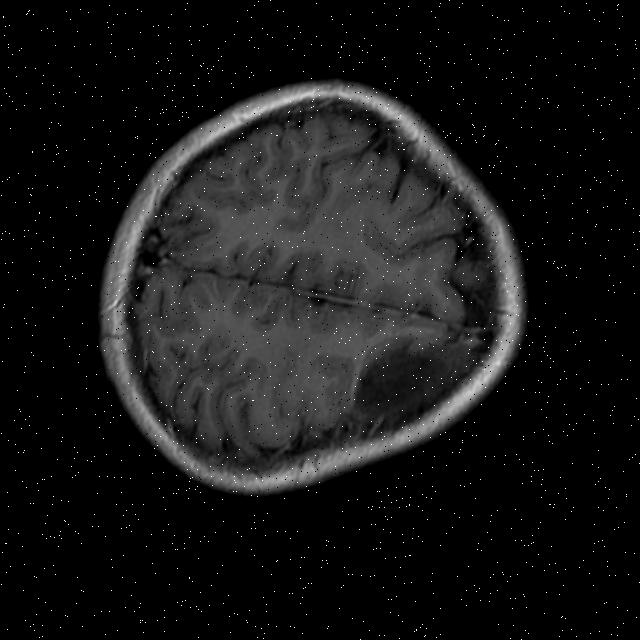Glioma: (347, 331, 474, 438)
